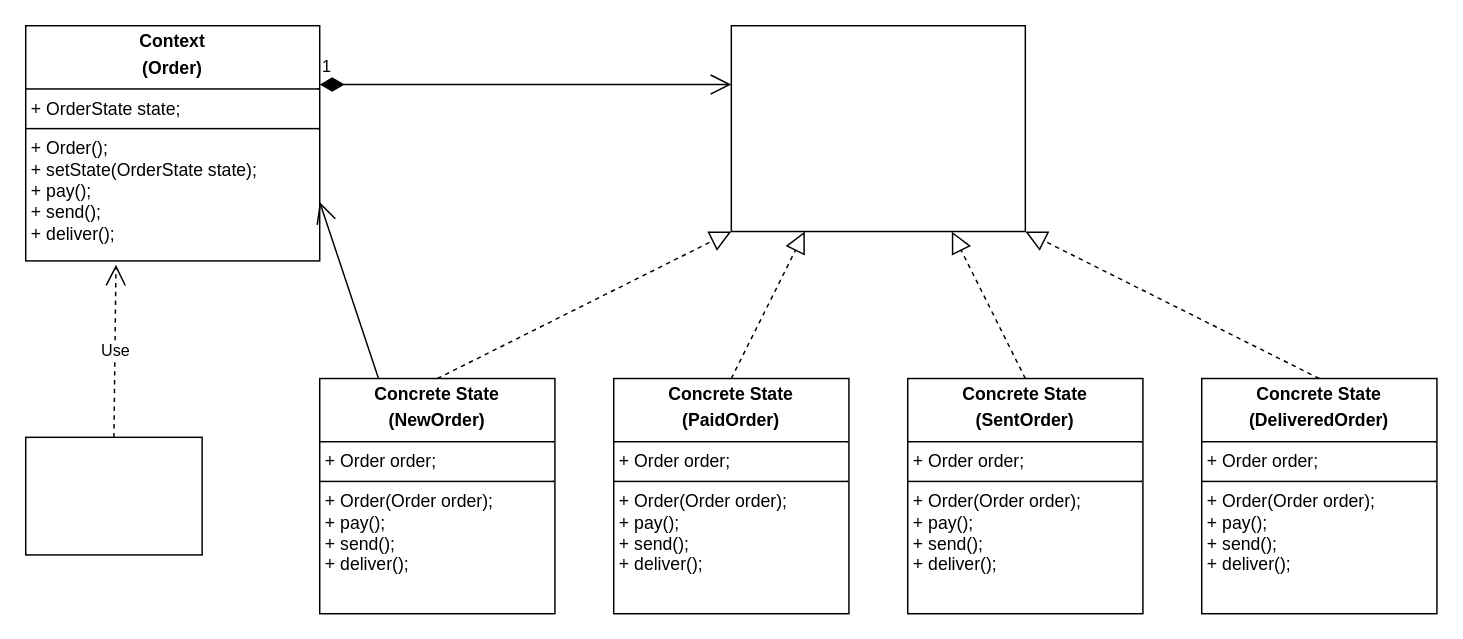
Some shapes in this 1463 by 639 pixel diagram are drawn without their labels. The box of each missing label's shape, as (x1, y1, x2, y2) in pixels:
<<Interface>> State (OrderState) + pay(); + send(); + deliver();: (730, 24, 1025, 232)
Client: (24, 436, 202, 555)
